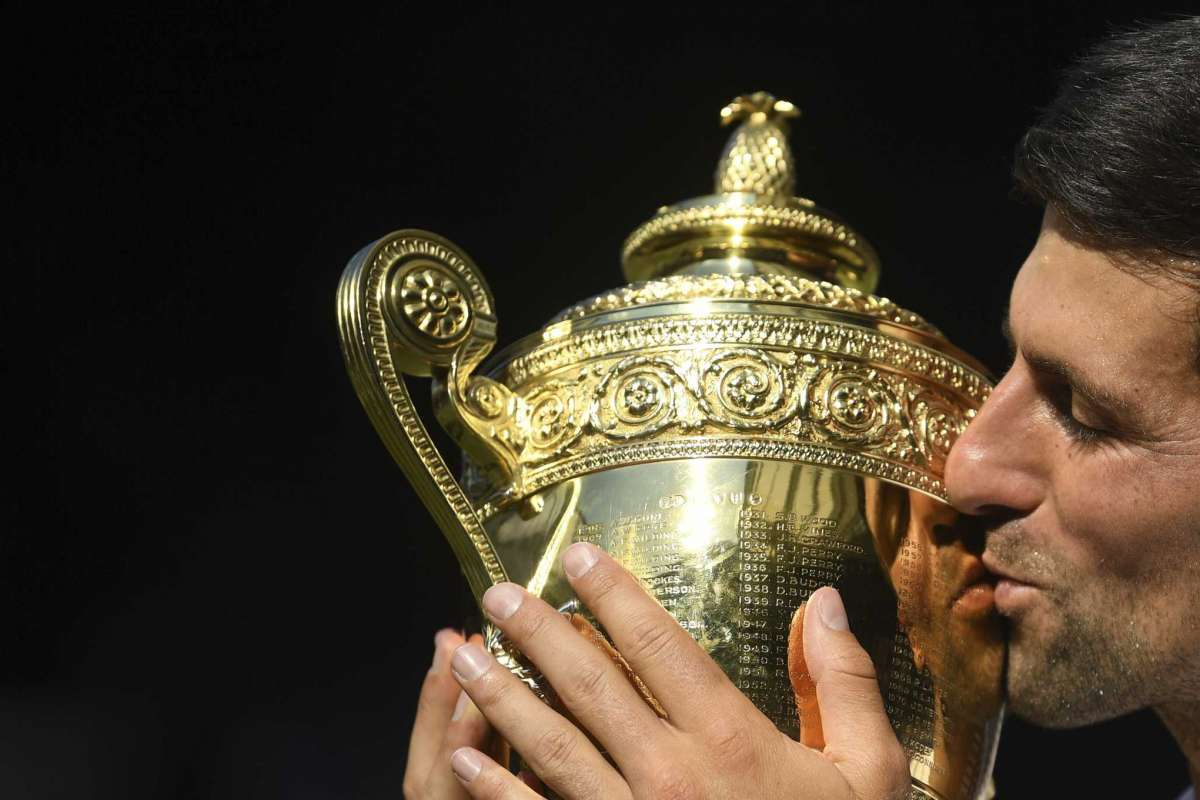trophy: (335, 85, 1034, 800)
